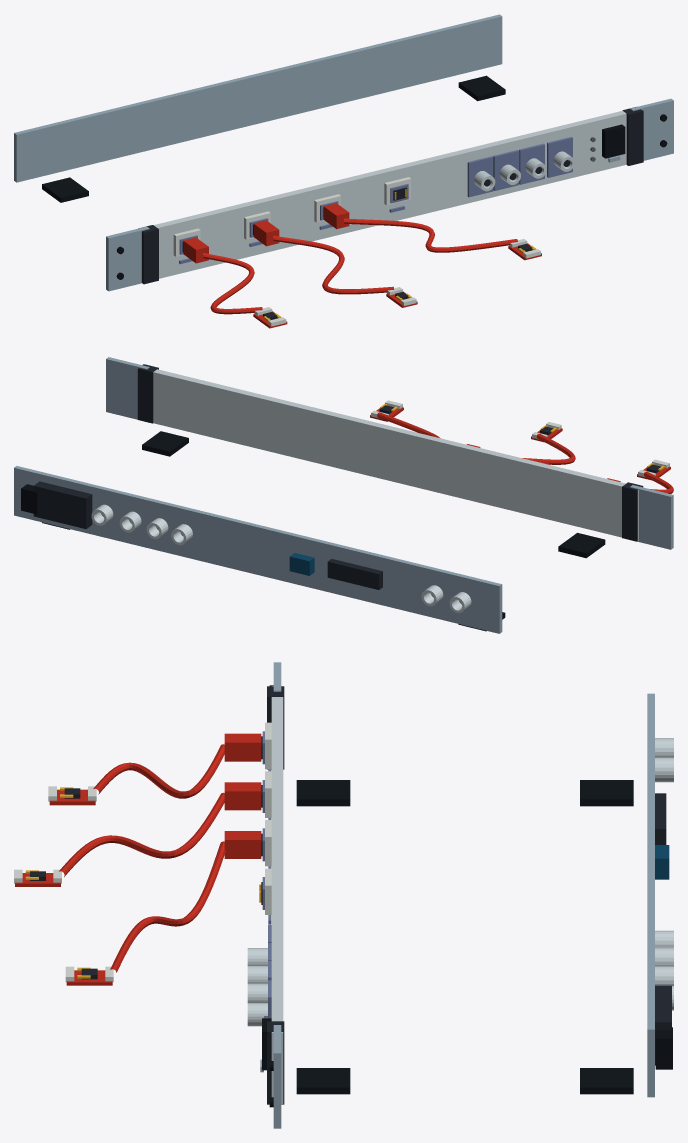
Rendered from intan-rhs-m4200.glb.
3 views of the same model, one above another, from view 1: azimuth 30°, elevation 25°; view 2: azimuth 150°, elevation 25°; view 3: azimuth 270°, elevation 25° (orthographic). The views are drawn at different scales.
Parts seen in each view (by area): view 1: rear, face, rack, red_lead_C, feet, red_lead_B, red_lead_A, port_D, port_A; view 2: face, rear, rack, feet, red_lead_B; view 3: rear, face, feet, red_lead_B, red_lead_C, red_lead_A, rack, head_A, head_C, head_B.
Part boxes in pixels (left/top/right/bottom): rear: left=14, top=14, right=502, bottom=182; face: left=141, top=109, right=641, bottom=282; rack: left=106, top=98, right=673, bottom=291; red_lead_C: left=323, top=203, right=517, bottom=252; feet: left=42, top=75, right=505, bottom=202; red_lead_B: left=253, top=220, right=394, bottom=294; red_lead_A: left=183, top=237, right=262, bottom=314; port_D: left=384, top=177, right=411, bottom=212; port_A: left=173, top=228, right=200, bottom=264; face: left=137, top=368, right=638, bottom=541; rear: left=14, top=466, right=502, bottom=633; rack: left=106, top=357, right=673, bottom=549; feet: left=42, top=431, right=605, bottom=631; red_lead_B: left=522, top=433, right=575, bottom=464; rear: left=647, top=693, right=673, bottom=1097; face: left=247, top=686, right=283, bottom=1104; feet: left=296, top=780, right=633, bottom=1094; red_lead_B: left=59, top=782, right=261, bottom=876; red_lead_C: left=110, top=831, right=261, bottom=972; red_lead_A: left=93, top=733, right=261, bottom=798; rack: left=267, top=662, right=284, bottom=1128; head_A: left=48, top=786, right=96, bottom=805; head_C: left=65, top=966, right=113, bottom=985; head_B: left=14, top=869, right=61, bottom=886.
Bounding box in the file's own units: 0.483 × 0.0476 × 0.3445.
